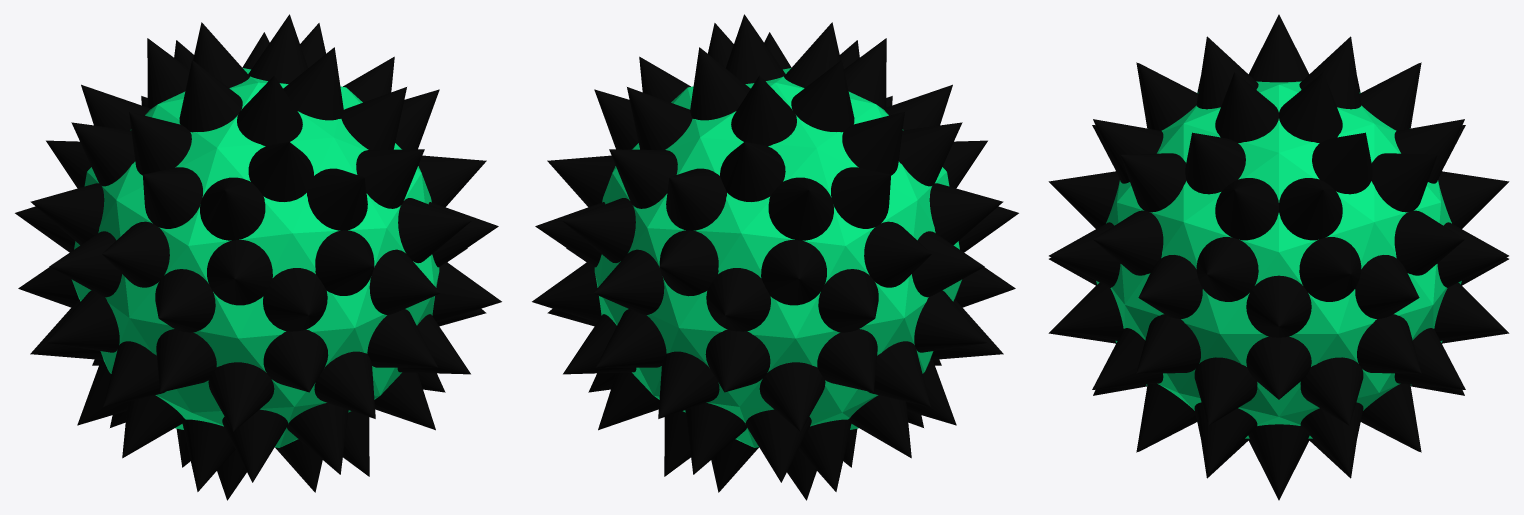
File: spikeBallTest.fbx
The picture shows the model from 3 angles, left to right: view 1: azimuth 30°, elevation 25°; view 2: azimuth 150°, elevation 25°; view 3: azimuth 270°, elevation 25°; orthographic projection.
Parts seen in each view (by area): view 1: ICO球, ICO球|円錐|Dupli|44, ICO球|円錐|Dupli|16, ICO球|円錐|Dupli|45, ICO球|円錐|Dupli|46, ICO球|円錐|Dupli|56, ICO球|円錐|Dupli|31, ICO球|円錐|Dupli|11, ICO球|円錐|Dupli|28, ICO球|円錐|Dupli|30, ICO球|円錐|Dupli|43, ICO球|円錐|Dupli|58 (+40 smaller); view 2: ICO球, ICO球|円錐|Dupli|40, ICO球|円錐|Dupli|25, ICO球|円錐|Dupli|39, ICO球|円錐|Dupli|38, ICO球|円錐|Dupli|53, ICO球|円錐|Dupli|18, ICO球|円錐|Dupli|13, ICO球|円錐|Dupli|17, ICO球|円錐|Dupli|24, ICO球|円錐|Dupli|41, ICO球|円錐|Dupli|8 (+40 smaller); view 3: ICO球, ICO球|円錐|Dupli|62, ICO球|円錐|Dupli|49, ICO球|円錐|Dupli|35, ICO球|円錐|Dupli|19, ICO球|円錐|Dupli|34, ICO球|円錐|Dupli|63, ICO球|円錐|Dupli|64, ICO球|円錐|Dupli|5, ICO球|円錐|Dupli|14, ICO球|円錐|Dupli|36, ICO球|円錐|Dupli|48 (+29 smaller).
Boxes of the visible parts, box(x1,y1,x2,y2) form: ICO球: box(72, 68, 439, 447); ICO球|円錐|Dupli|44: box(207, 240, 272, 305); ICO球|円錐|Dupli|16: box(200, 177, 265, 240); ICO球|円錐|Dupli|45: box(263, 268, 327, 331); ICO球|円錐|Dupli|46: box(315, 230, 374, 295); ICO球|円錐|Dupli|56: box(155, 269, 215, 332); ICO球|円錐|Dupli|31: box(307, 168, 367, 230); ICO球|円錐|Dupli|11: box(263, 329, 328, 392); ICO球|円錐|Dupli|28: box(142, 167, 202, 228); ICO球|円錐|Dupli|30: box(248, 142, 313, 201); ICO球|円錐|Dupli|43: box(102, 221, 169, 287); ICO球|円錐|Dupli|58: box(208, 362, 274, 431); ICO球: box(594, 68, 961, 447); ICO球|円錐|Dupli|40: box(761, 240, 826, 305); ICO球|円錐|Dupli|25: box(768, 177, 833, 240); ICO球|円錐|Dupli|39: box(706, 268, 770, 331); ICO球|円錐|Dupli|38: box(659, 230, 718, 296); ICO球|円錐|Dupli|53: box(818, 269, 878, 332); ICO球|円錐|Dupli|18: box(666, 168, 726, 230); ICO球|円錐|Dupli|13: box(705, 329, 770, 392); ICO球|円錐|Dupli|17: box(831, 167, 891, 228); ICO球|円錐|Dupli|24: box(720, 142, 785, 201); ICO球|円錐|Dupli|41: box(864, 221, 931, 287); ICO球|円錐|Dupli|8: box(759, 362, 825, 431); ICO球: box(1096, 81, 1461, 438); ICO球|円錐|Dupli|62: box(1246, 275, 1311, 337); ICO球|円錐|Dupli|49: box(1196, 237, 1258, 301); ICO球|円錐|Dupli|35: box(1299, 237, 1361, 301); ICO球|円錐|Dupli|19: box(1279, 178, 1342, 240); ICO球|円錐|Dupli|34: box(1215, 178, 1278, 240); ICO球|円錐|Dupli|63: box(1246, 336, 1311, 399); ICO球|円錐|Dupli|64: box(1300, 357, 1363, 425); ICO球|円錐|Dupli|5: box(1194, 357, 1257, 425); ICO球|円錐|Dupli|14: box(1357, 314, 1421, 373); ICO球|円錐|Dupli|36: box(1355, 255, 1419, 318); ICO球|円錐|Dupli|48: box(1138, 255, 1202, 318).
Size of the model in its own units: 2.55 by 2.45 by 2.42.
